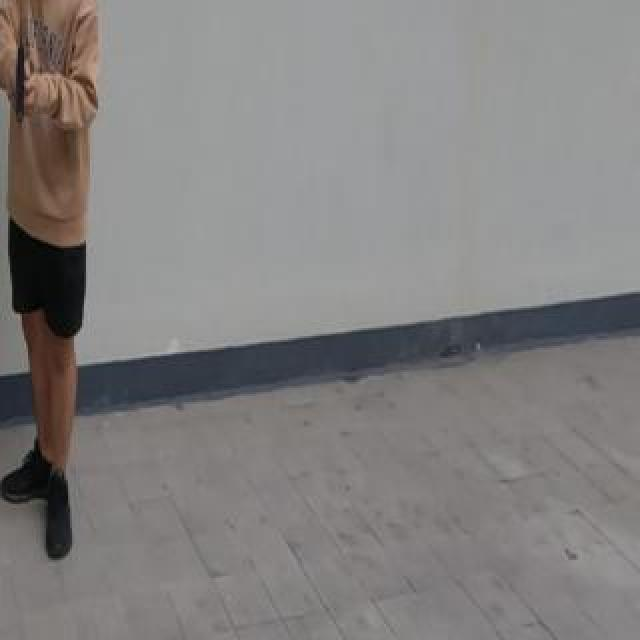Guns: (9, 36, 33, 124)
